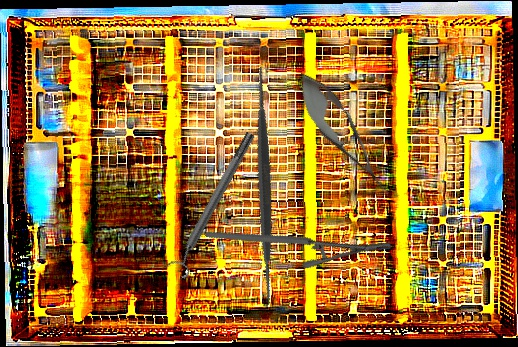Fixation Ring: (163, 128, 264, 280)
Micro Scissor: (284, 63, 404, 206)
Needle Holder: (204, 174, 394, 305)
Spatula Surgical: (136, 58, 392, 315)
